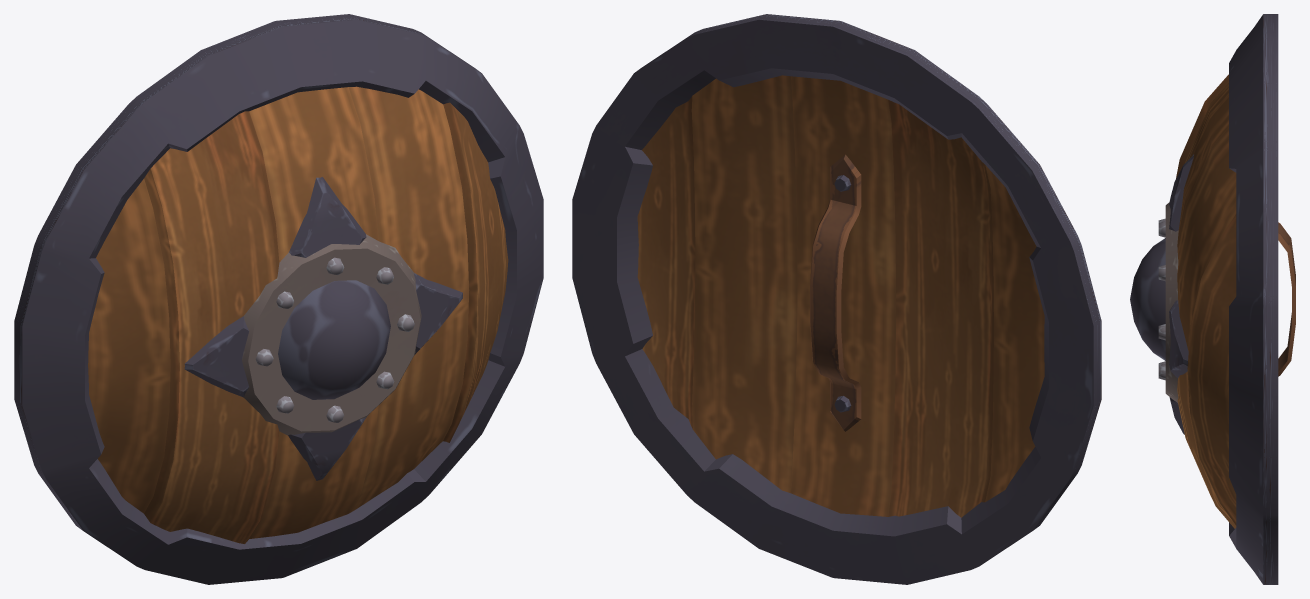
The model's file is Shield_Wooden.gltf.
3 views of the same model, side by side, from view 1: azimuth 30°, elevation 25°; view 2: azimuth 150°, elevation 25°; view 3: azimuth 270°, elevation 25° (orthographic). The views are drawn at different scales.
Visible parts, largest first — view 1: Shield_Wooden; view 2: Shield_Wooden; view 3: Shield_Wooden.
Boxes of the visible parts, bbox=[...] form: Shield_Wooden: bbox=[14, 14, 543, 584]; Shield_Wooden: bbox=[572, 14, 1101, 584]; Shield_Wooden: bbox=[1130, 14, 1295, 584].
Size of the model in its own units: 0.6146 by 0.6209 by 0.1788.
3 materials, 3 textured.
